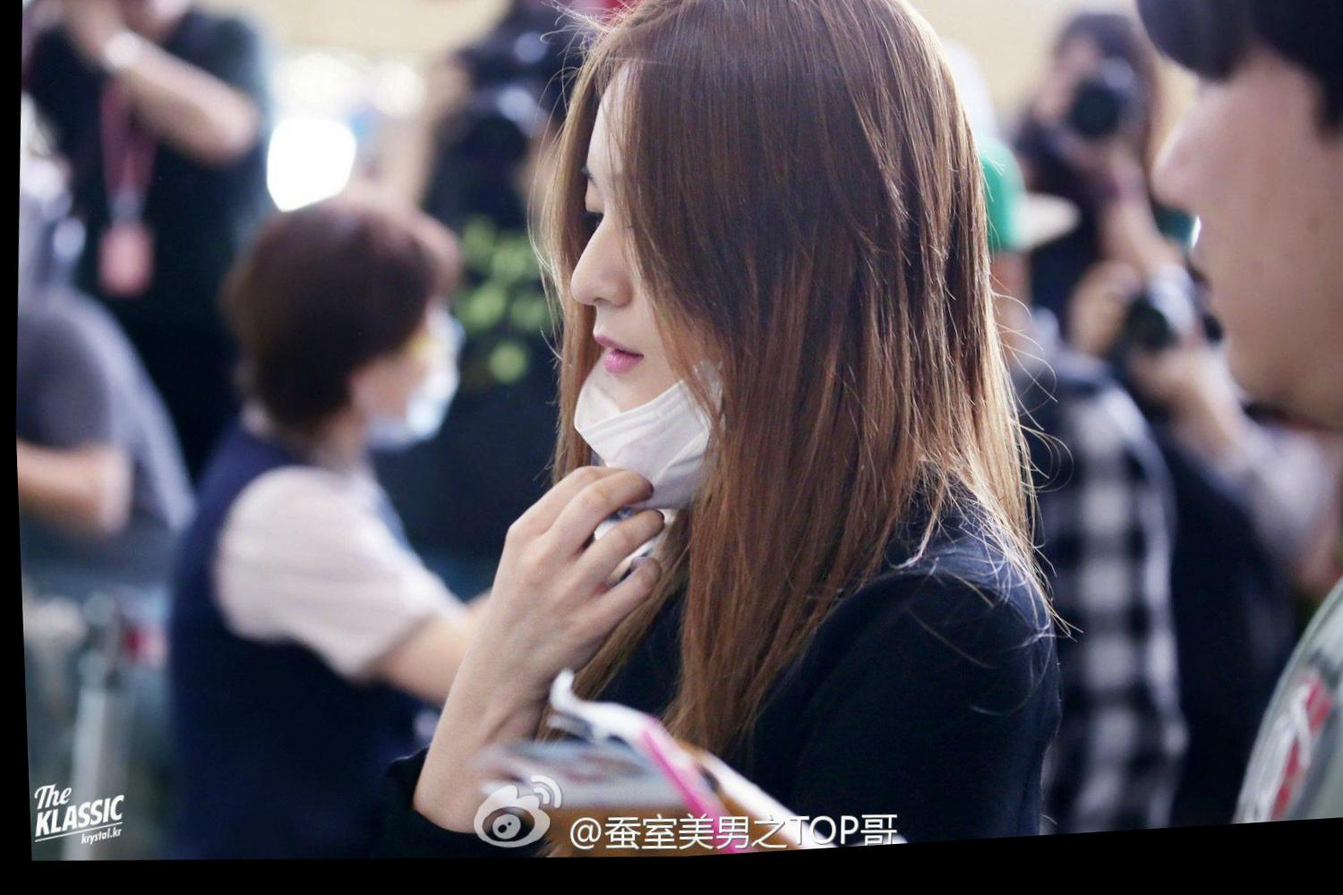NONE: (1125, 35, 1310, 456)
OK: (358, 296, 472, 467)
WRONG: (560, 142, 726, 456)
